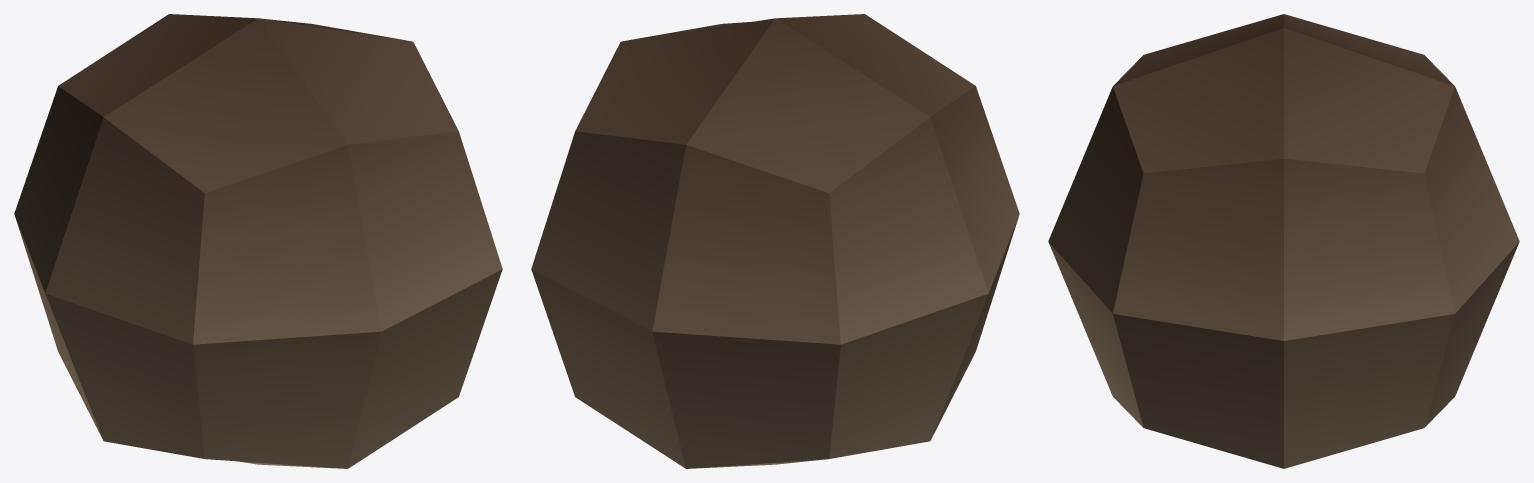
The model's file is rock.fbx.
The picture shows the model from 3 angles, left to right: view 1: azimuth 30°, elevation 25°; view 2: azimuth 150°, elevation 25°; view 3: azimuth 270°, elevation 25°; orthographic projection. The views are drawn at different scales.
Parts seen in each view (by area): view 1: Cube; view 2: Cube; view 3: Cube.
Boxes of the visible parts, x1=… form: Cube: x1=14, y1=14, x2=502, y2=468; Cube: x1=531, y1=14, x2=1019, y2=468; Cube: x1=1048, y1=14, x2=1519, y2=468.
Size of the model in its own units: 168 by 168 by 168.
